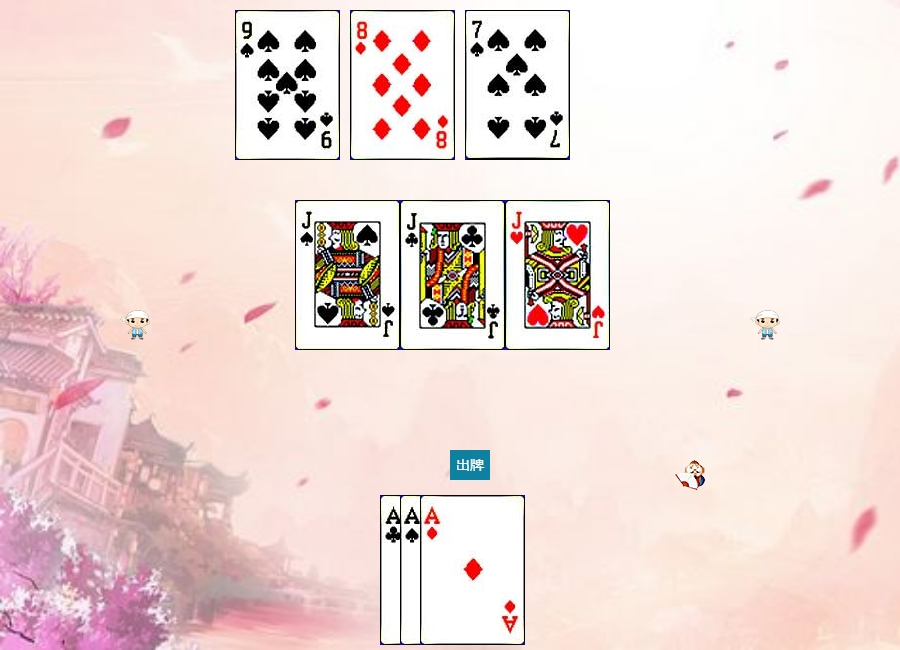11~2: (400, 200, 505, 350)
11~3: (505, 200, 610, 350)
11~4: (295, 200, 400, 350)
14~1: (420, 495, 525, 645)
14~2: (380, 495, 485, 645)
14~4: (400, 495, 505, 645)
7~4: (465, 10, 570, 160)
8~1: (350, 10, 455, 160)
9~4: (235, 10, 340, 160)
